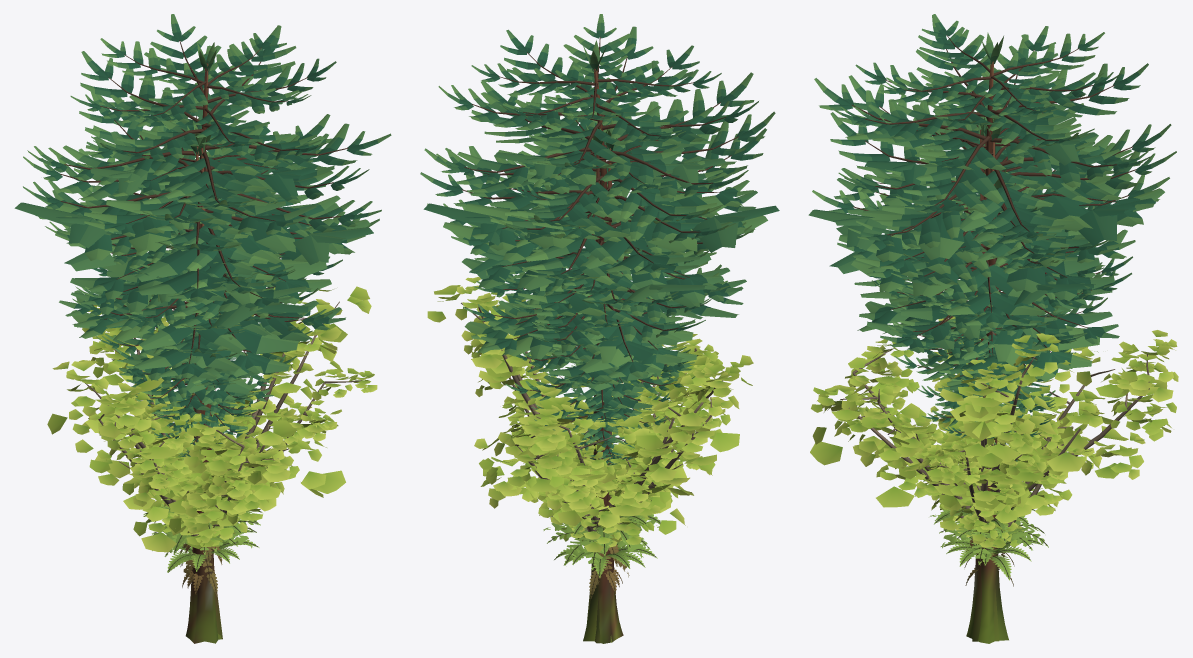
Rendered from flora_trees.glb.
The picture shows the model from 3 angles, left to right: view 1: azimuth 30°, elevation 25°; view 2: azimuth 150°, elevation 25°; view 3: azimuth 270°, elevation 25°; orthographic projection. The views are drawn at different scales.
Visible parts, largest first — view 1: conifer_b, conifer_lo, ginkgo_b, conifer_far, ginkgo_lo, conifer_a, ginkgo_a, conifer_dist, ginkgo_far, treefern_a, treefern_b; view 2: conifer_b, conifer_lo, ginkgo_b, conifer_far, conifer_a, ginkgo_lo, conifer_dist, ginkgo_a, ginkgo_far, treefern_a, treefern_b, treefern_lo (+1 smaller); view 3: conifer_b, conifer_lo, ginkgo_b, conifer_far, ginkgo_lo, ginkgo_a, conifer_a, conifer_dist, ginkgo_far, treefern_a, treefern_lo, treefern_b.
Part boxes in pixels (x1,y1,x2,y2): conifer_b: [23, 14, 391, 643]; conifer_lo: [35, 96, 365, 639]; ginkgo_b: [52, 287, 329, 523]; conifer_far: [55, 118, 370, 427]; ginkgo_lo: [69, 286, 371, 548]; conifer_a: [72, 169, 332, 459]; ginkgo_a: [116, 368, 377, 546]; conifer_dist: [14, 96, 373, 639]; ginkgo_far: [47, 337, 345, 552]; treefern_a: [152, 530, 259, 595]; treefern_b: [143, 504, 262, 564]; conifer_b: [420, 14, 775, 643]; conifer_lo: [451, 95, 757, 643]; ginkgo_b: [455, 277, 753, 508]; conifer_far: [443, 125, 767, 459]; conifer_a: [463, 172, 721, 532]; ginkgo_lo: [427, 285, 726, 534]; conifer_dist: [423, 105, 779, 624]; ginkgo_a: [471, 349, 712, 552]; ginkgo_far: [470, 343, 739, 525]; treefern_a: [554, 526, 657, 598]; treefern_b: [551, 514, 660, 566]; treefern_lo: [547, 522, 650, 584]; conifer_b: [812, 14, 1176, 643]; conifer_lo: [834, 99, 1135, 555]; ginkgo_b: [811, 295, 1178, 511]; conifer_far: [838, 112, 1164, 468]; ginkgo_lo: [820, 341, 1138, 523]; ginkgo_a: [834, 377, 1101, 549]; conifer_a: [872, 167, 1132, 516]; conifer_dist: [808, 90, 1155, 641]; ginkgo_far: [810, 316, 1128, 520]; treefern_a: [942, 533, 1042, 586]; treefern_lo: [939, 521, 1048, 567]; treefern_b: [934, 479, 1035, 551].
Size of the model in its own units: 13.18 by 22.72 by 12.68.
